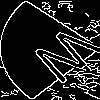W: (25, 25, 100, 91)
